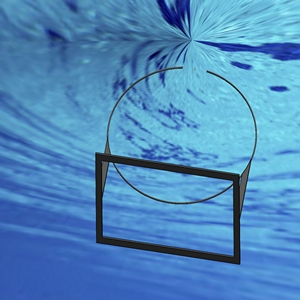circle: (90, 56, 264, 266), (105, 63, 260, 207)
